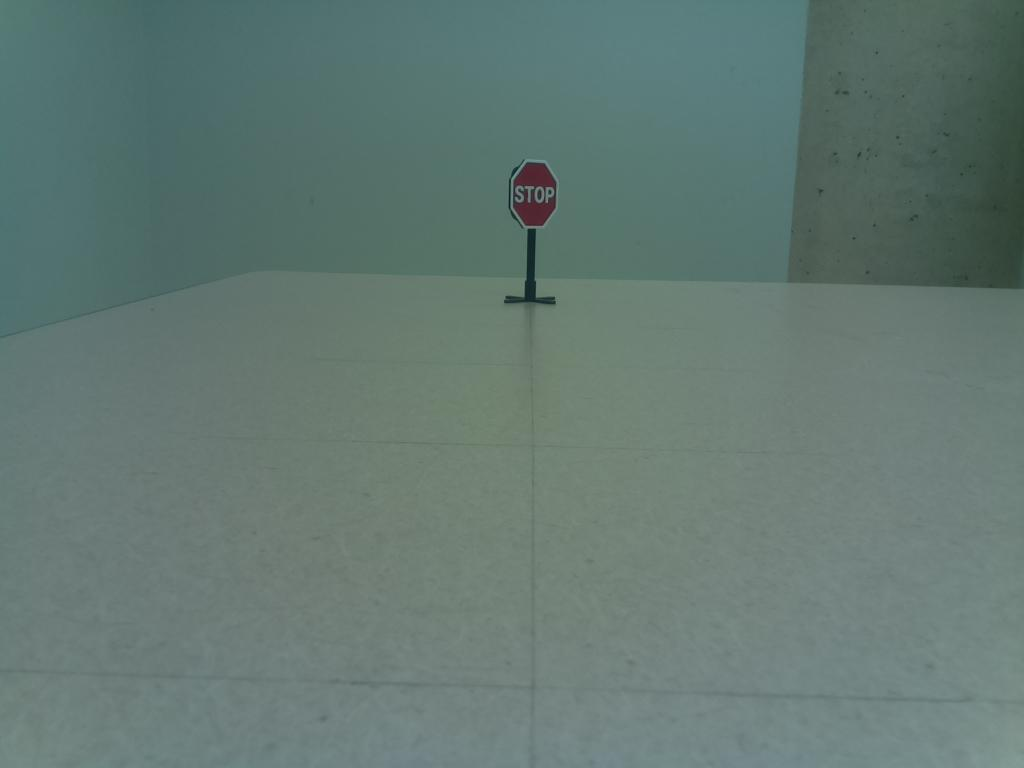sign_stop: (504, 159, 565, 234)
